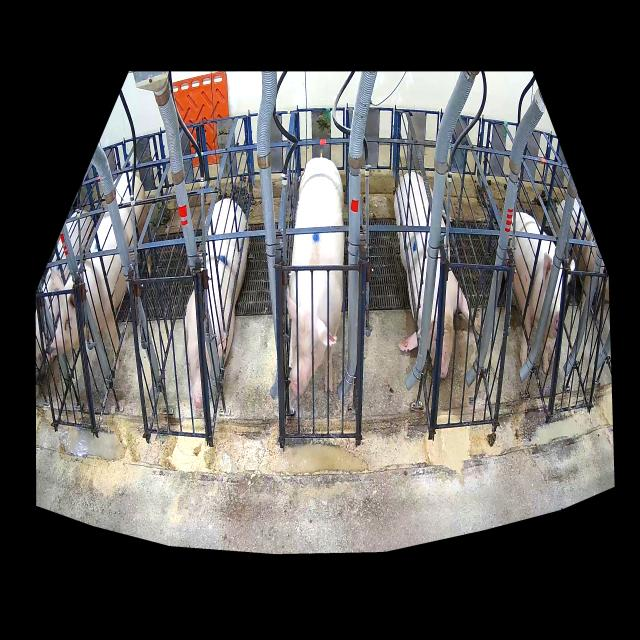pig: (50, 172, 152, 370), (394, 172, 469, 379), (286, 158, 344, 395), (185, 198, 249, 409), (513, 212, 563, 374)
